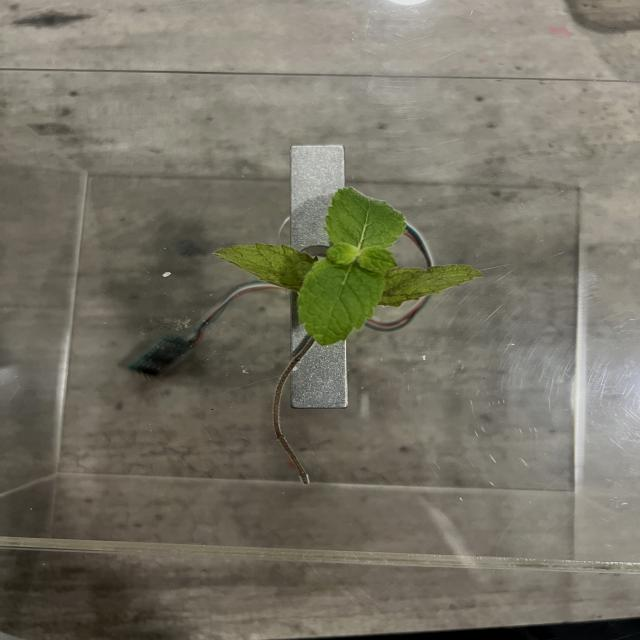mint: (208, 186, 472, 492)
